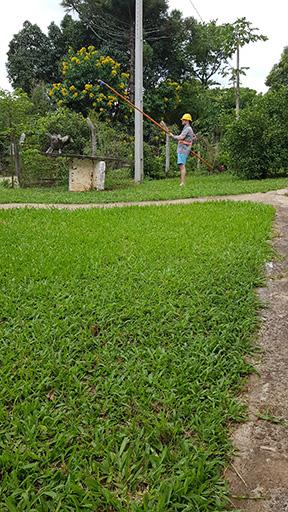Capacete: (181, 112, 192, 126)
Vara_Manobra: (104, 82, 213, 168)
